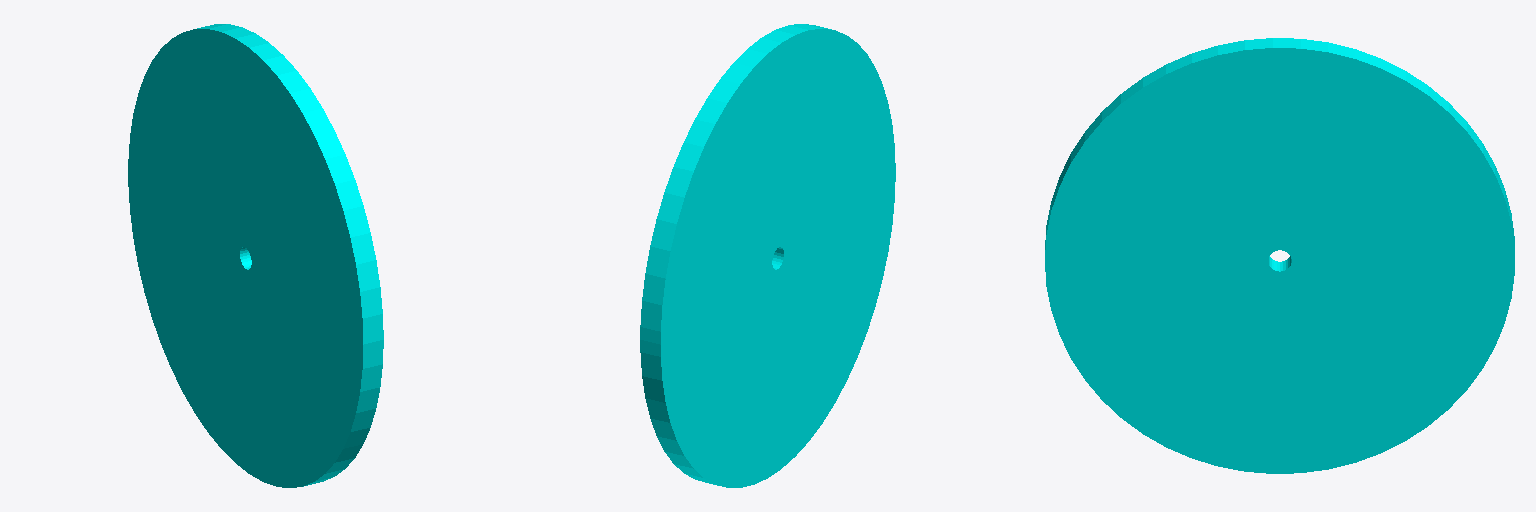
File: wheel-holeless.obj
The picture shows the model from 3 angles: view 1: azimuth 30°, elevation 25°; view 2: azimuth 150°, elevation 25°; view 3: azimuth 270°, elevation 25°; orthographic projection.
Visible parts, largest first — view 1: Root|#5Wheel-holeless_(Default)|Default|color; view 2: Root|#5Wheel-holeless_(Default)|Default|color; view 3: Root|#5Wheel-holeless_(Default)|Default|color.
Part boxes in pixels (bbox=[...]): Root|#5Wheel-holeless_(Default)|Default|color: bbox=[128, 24, 383, 487]; Root|#5Wheel-holeless_(Default)|Default|color: bbox=[640, 24, 895, 487]; Root|#5Wheel-holeless_(Default)|Default|color: bbox=[1045, 38, 1514, 473].
Size of the model in its own units: 0.005 by 0.1 by 0.1.